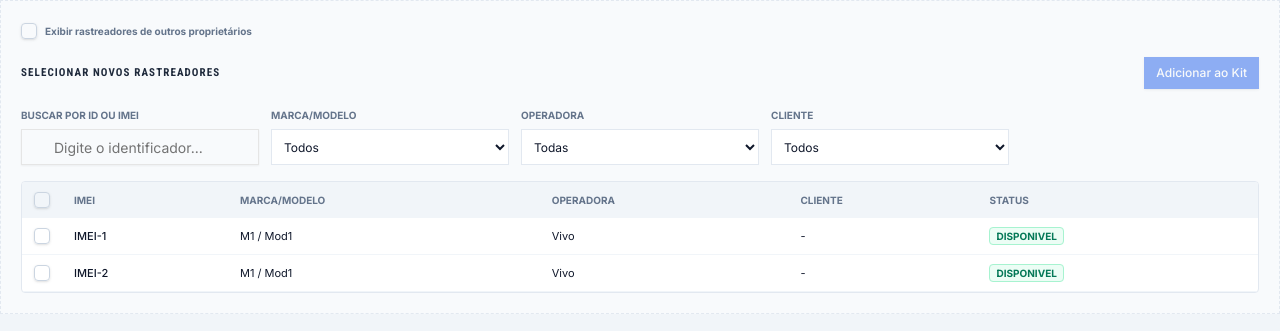
ModalSelecaoEKitPanelNovosRastreadores › tabela de aparelhos › seleção parcial: cabeçalho não fica marcado; marcar cabeçalho seleciona todos
The image size is (1280, 331).
Expected: the checkbox in the row of "Status" is not checked, [34, 192, 50, 208]
Click the checkbox next to "IMEI-1" at (42, 236), box [34, 228, 50, 244]
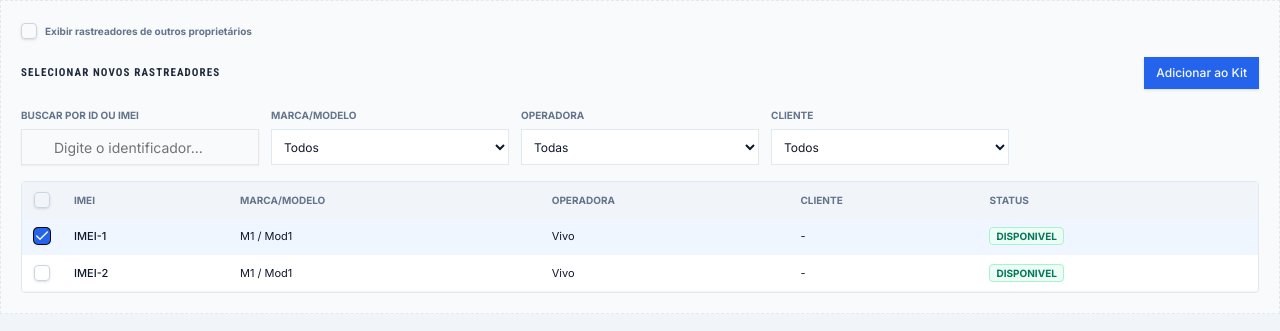
Click the checkbox in the row of "Status" at (42, 200), box [34, 192, 50, 208]
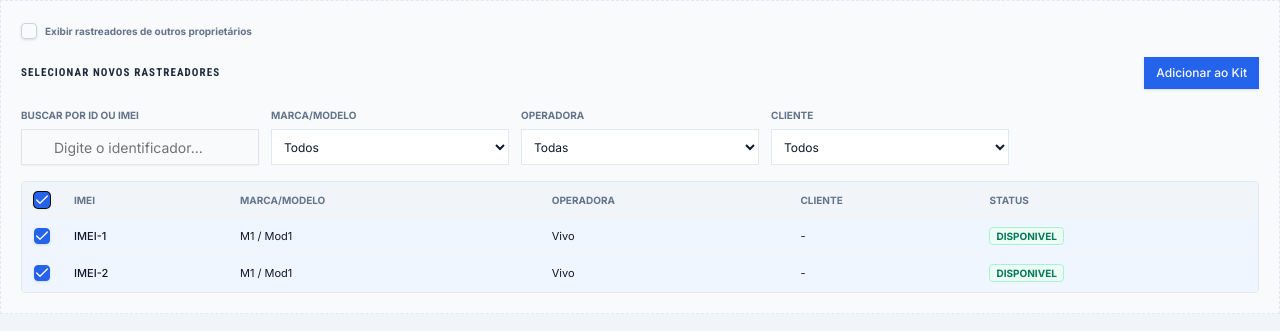
Result: the checkbox in the row of "Status" is checked at [34, 192, 50, 208]
Result: the checkbox next to "IMEI-1" is checked at [34, 228, 50, 244]
Result: the checkbox next to "IMEI-2" is checked at [34, 265, 50, 281]
